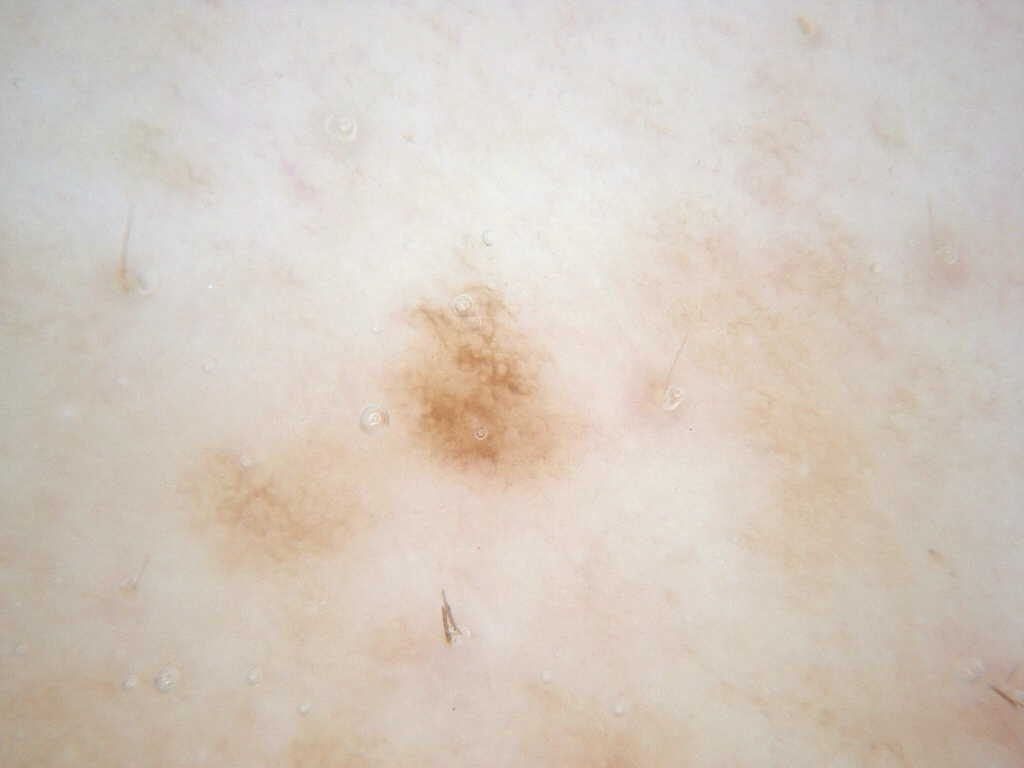Detected Lesion: (393, 285, 590, 503)
